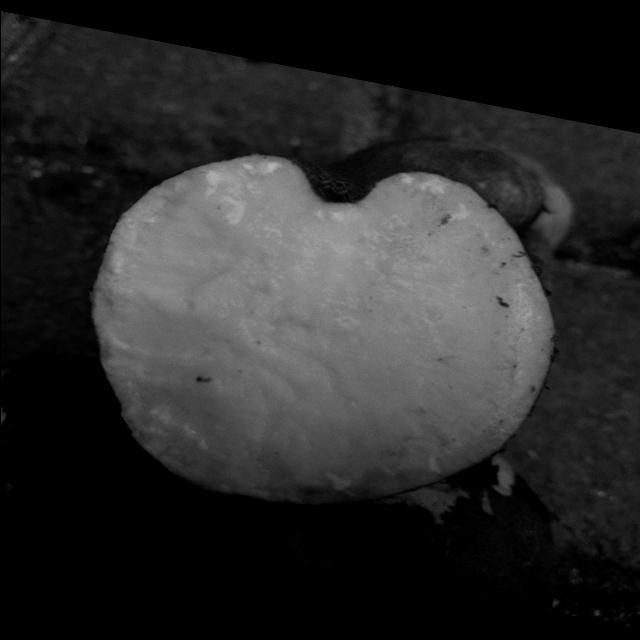Healthy Sweet Potato: (92, 155, 553, 504)
